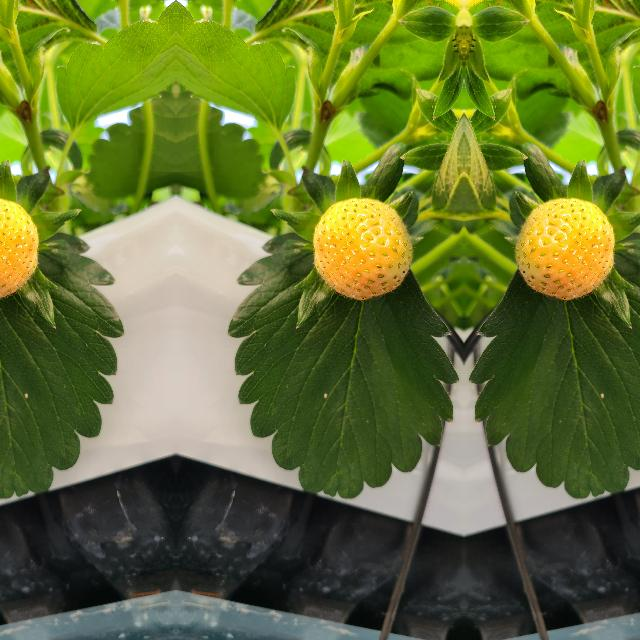Health_50: (311, 198, 415, 302), (511, 198, 615, 302), (0, 197, 39, 302)
